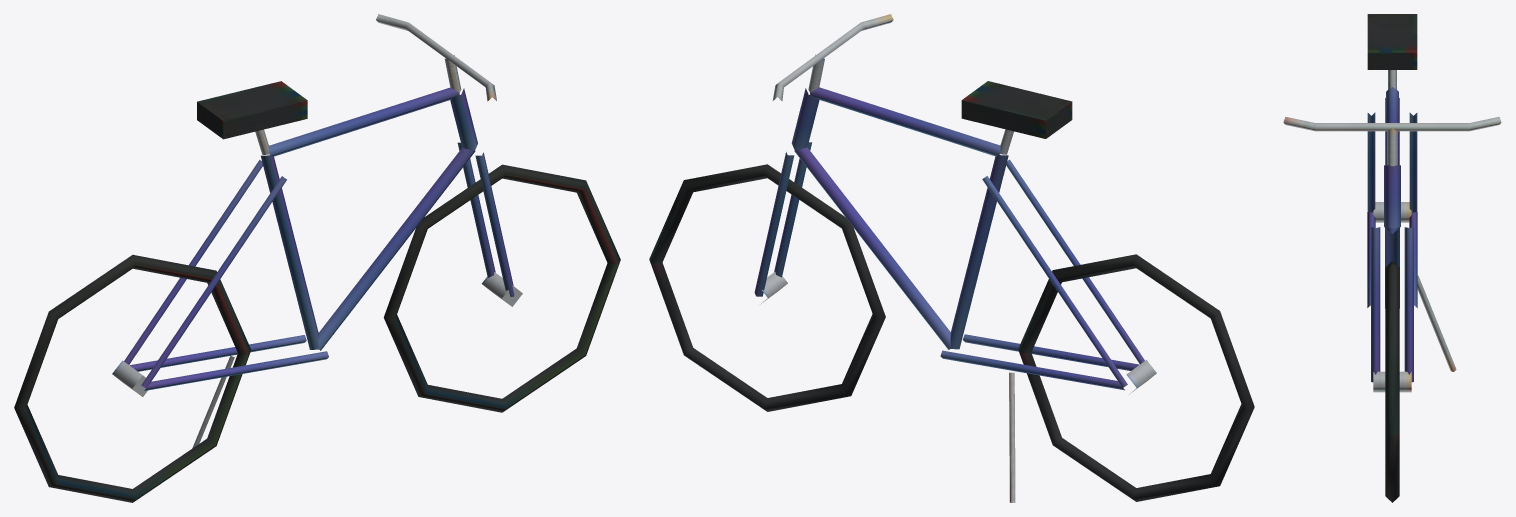
The model's file is velo_lod2.glb.
The picture shows the model from 3 angles, left to right: view 1: azimuth 30°, elevation 25°; view 2: azimuth 150°, elevation 25°; view 3: azimuth 270°, elevation 25°; orthographic projection. The views are drawn at different scales.
Parts seen in each view (by area): view 1: velo; view 2: velo; view 3: velo.
Boxes of the visible parts, <box> form: velo: <box>14,14,620,502</box>; velo: <box>649,14,1254,502</box>; velo: <box>1283,14,1501,502</box>.
Bounding box in the file's own units: 1.72 × 1.01 × 0.5707.
1 material, 1 textured.
